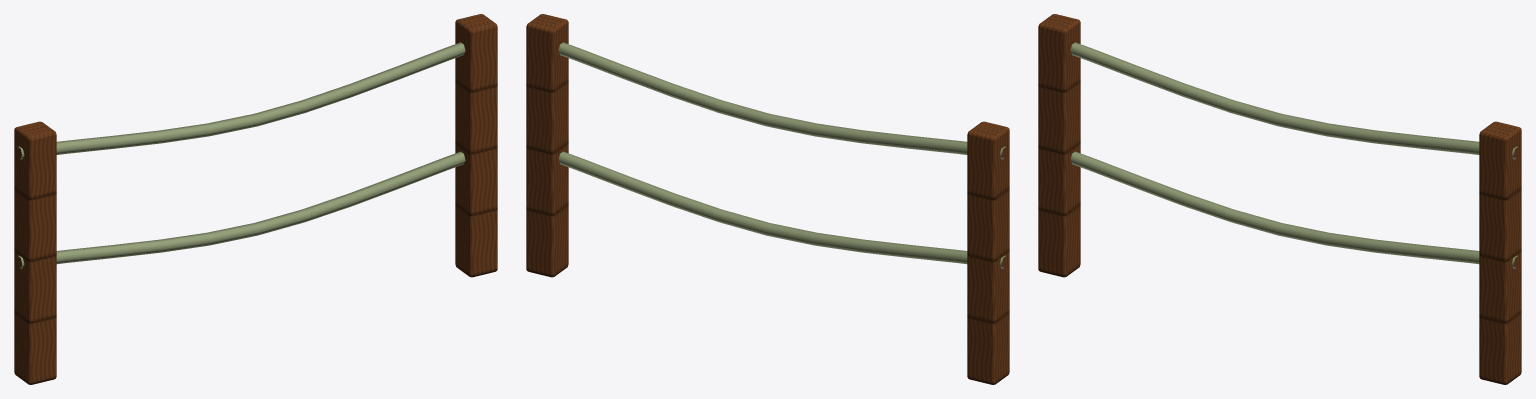
File: modular-survival-base-builder-rope-guardrail-db3b8c5c__24229.glb
3 views of the same model, side by side, from view 1: azimuth 30°, elevation 25°; view 2: azimuth 150°, elevation 25°; view 3: azimuth 330°, elevation 25° (orthographic).
Parts seen in each view (by area): view 1: rope-guardrail; view 2: rope-guardrail; view 3: rope-guardrail.
Boxes of the visible parts, x1,y1,x2,y2 form: rope-guardrail: (14,14,497,384); rope-guardrail: (526,14,1009,384); rope-guardrail: (1038,14,1521,384).
Bounding box in the file's own units: 2 × 1 × 0.1199.
Materials: 2 (1 with a texture image).
